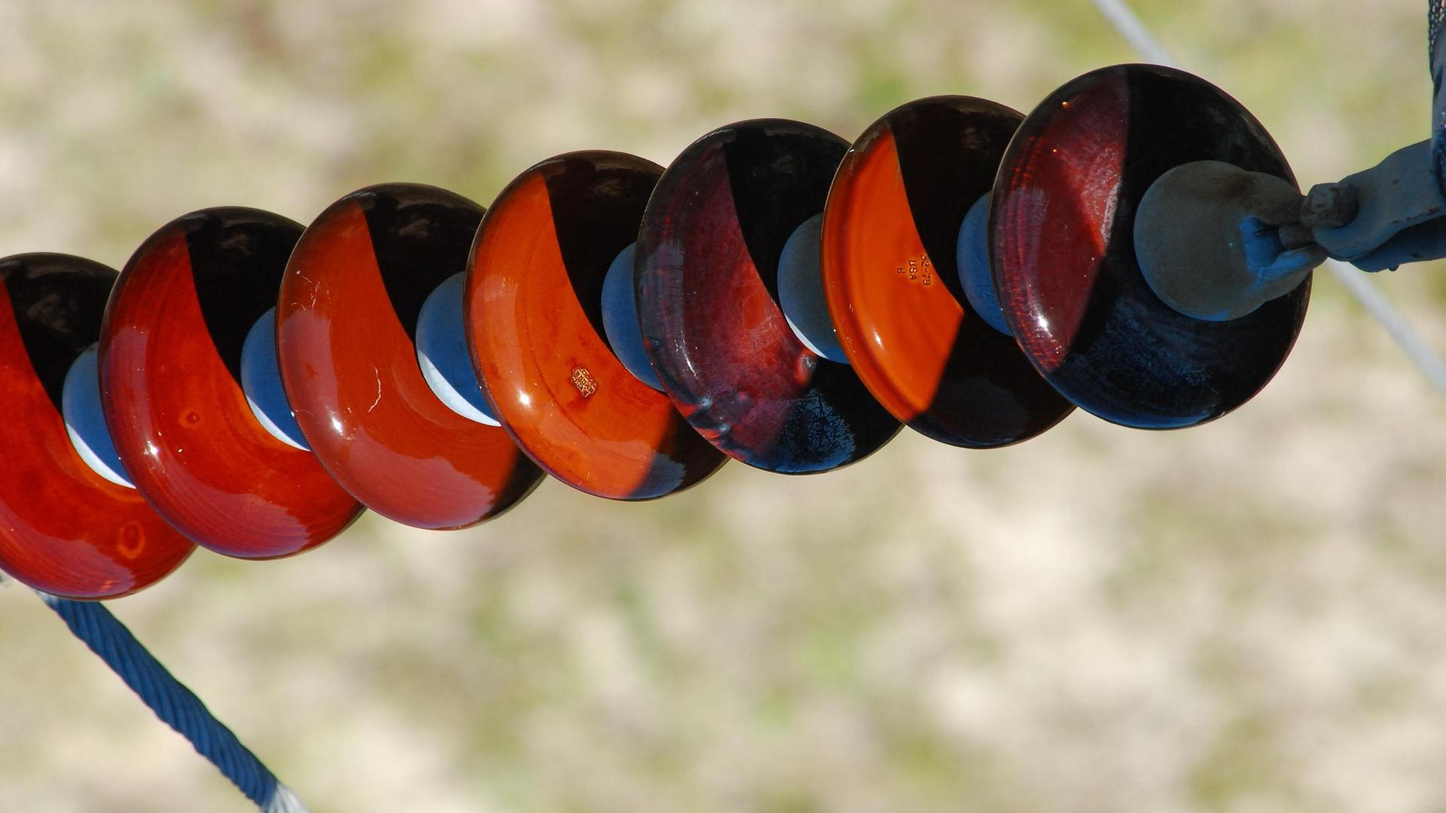insulator: (1, 59, 1322, 607)
insulator_flashover: (693, 384, 860, 478)
